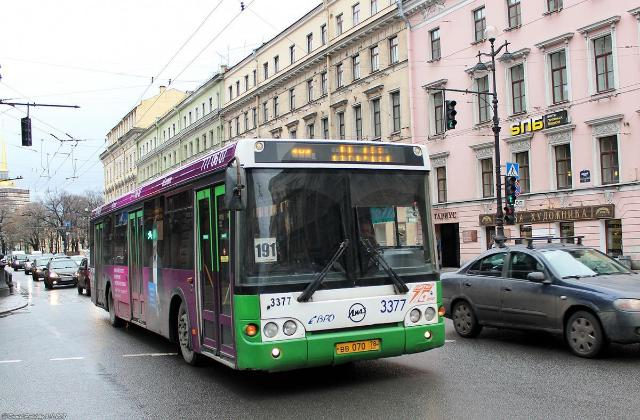bus: (87, 128, 447, 380)
car: (439, 243, 639, 355), (44, 260, 81, 289), (29, 257, 52, 282), (12, 254, 29, 272)
